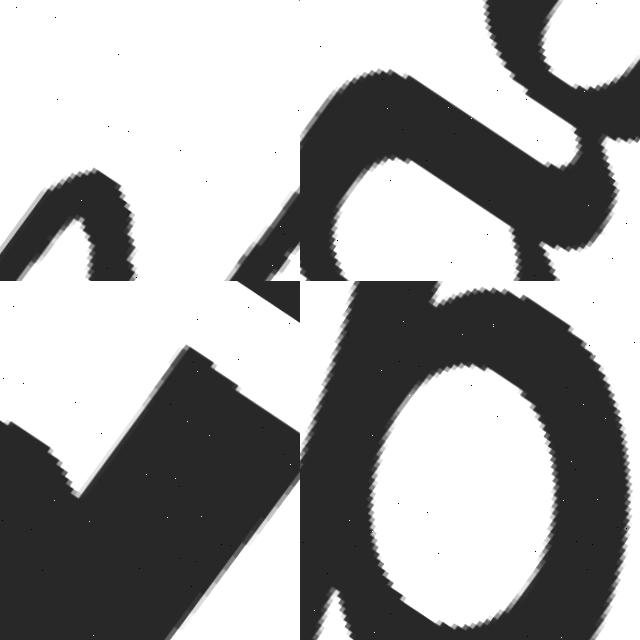B: (0, 350, 300, 640)
G: (300, 0, 640, 281)
Q: (300, 281, 640, 640)
